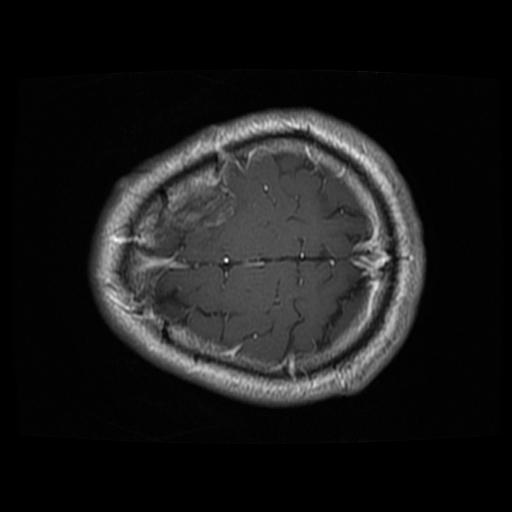glioma: (154, 186, 235, 256)
